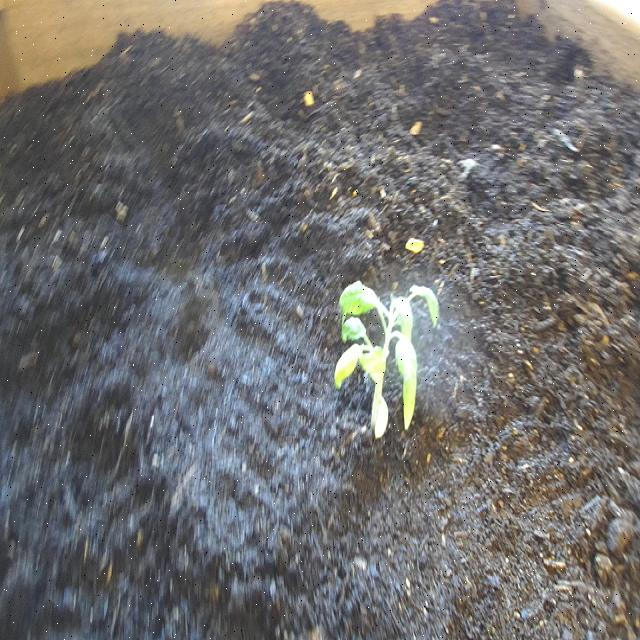Healthy: (328, 263, 446, 459)
